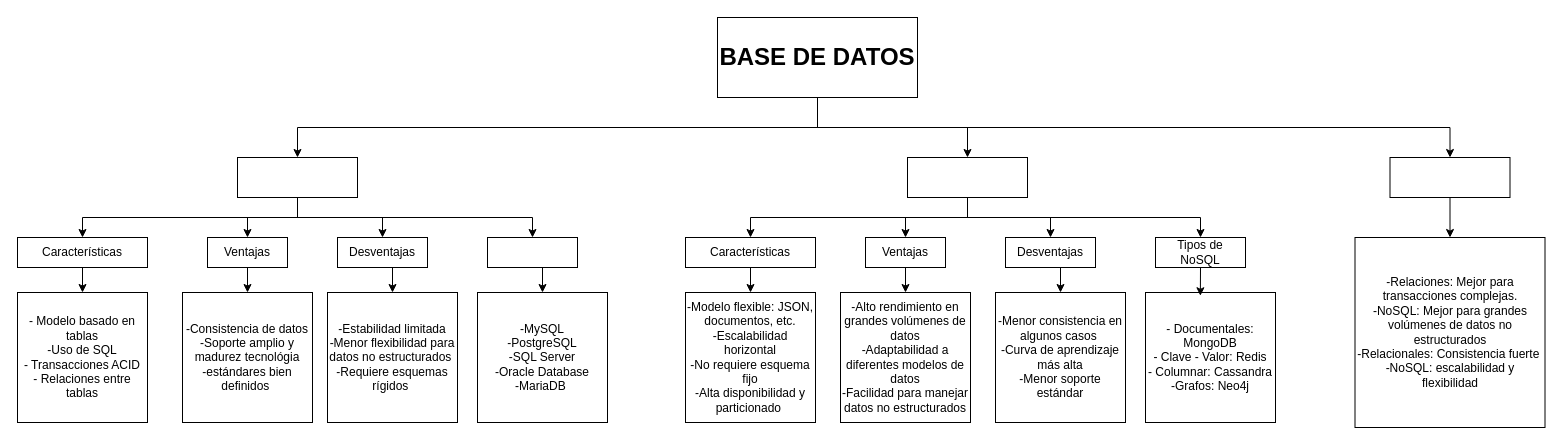
Some shapes in this 1563 by 445 pixel diagram are drawn without their labels. The shapes that lost their labels are listed below. From the top down, each one's centre as x and y in pixels, then its label:
At (297,177): "Relacionales".
At (967,177): "NoSQL".
At (1449,177): "Comparación".
At (532,252): "Fabricantes".
